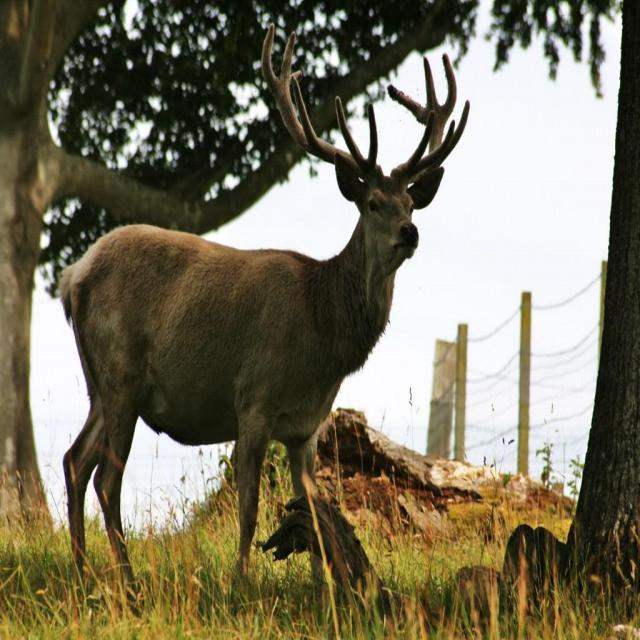Deer: (59, 20, 473, 614)
